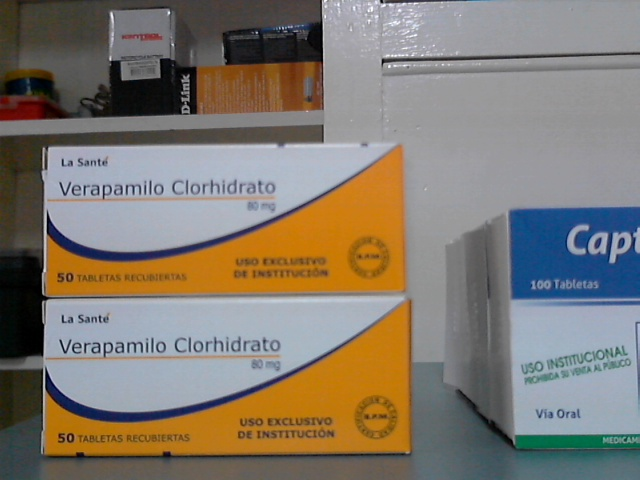LaSante: (47, 302, 410, 456), (47, 147, 404, 293)
